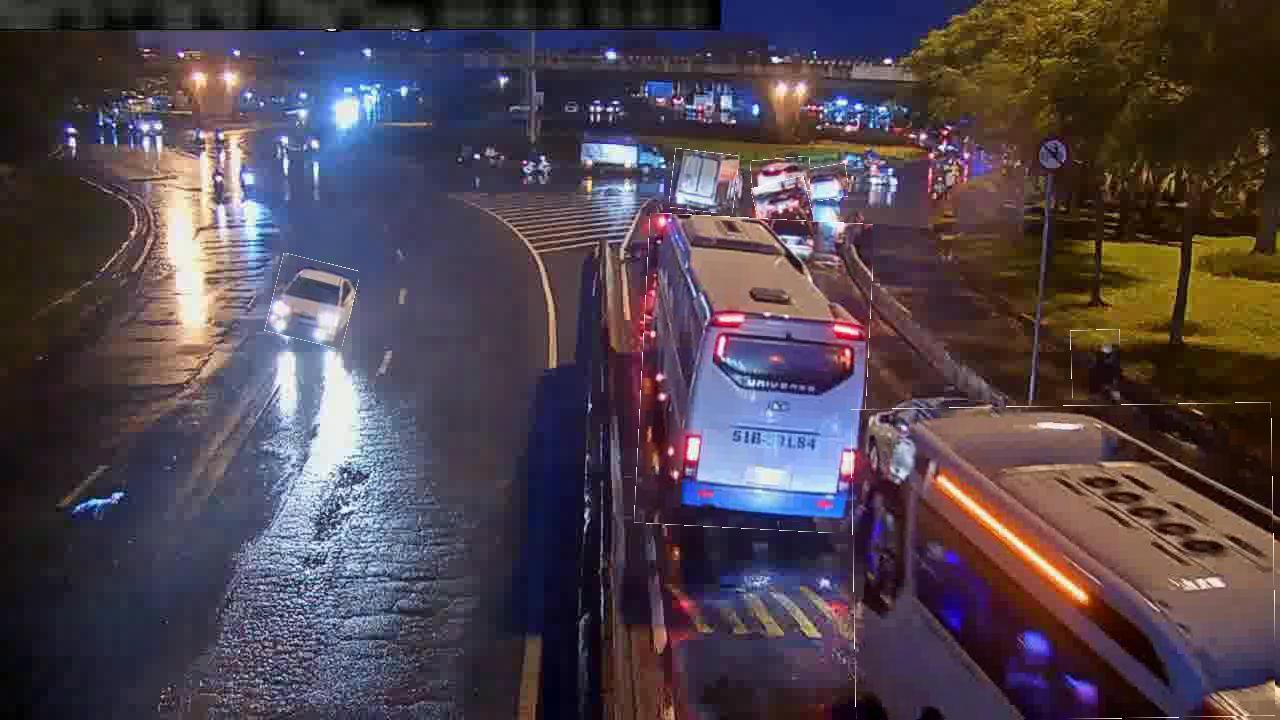14: (852, 404, 1276, 719), (638, 216, 871, 532)
8: (670, 150, 738, 213)
container: (269, 257, 356, 345), (754, 179, 812, 231), (751, 158, 811, 194), (801, 165, 848, 201)
motorbike: (1071, 330, 1121, 399)
